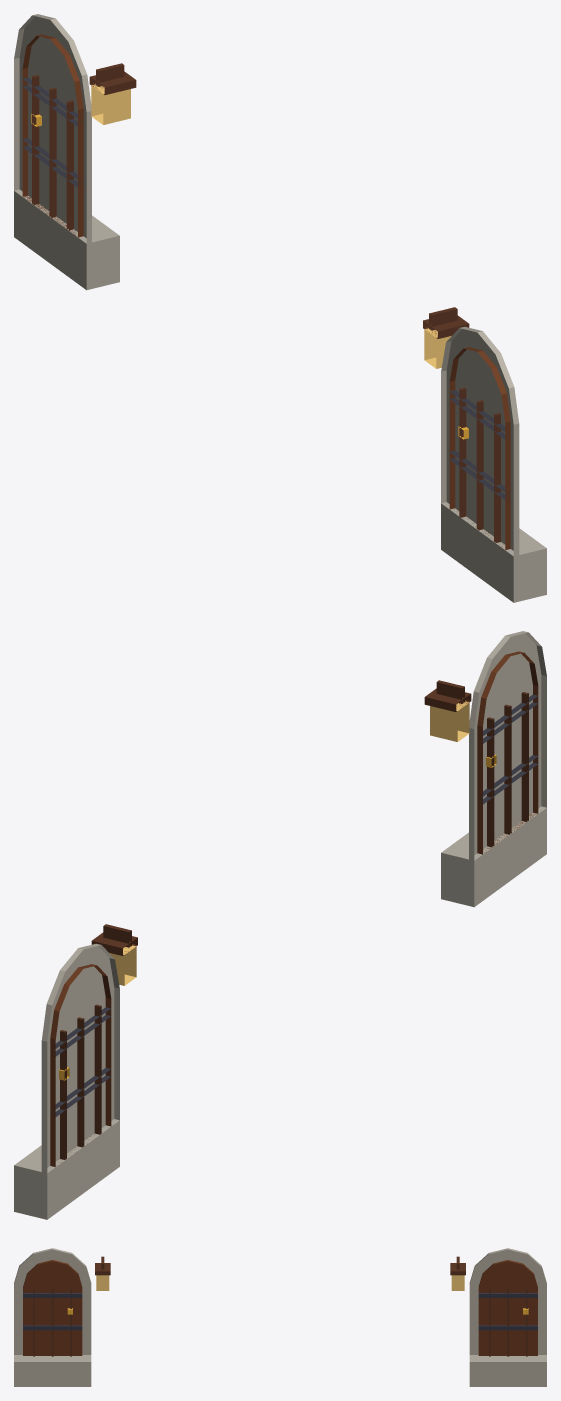
Rendered from FortifiedGate1-TowerDoors.fbx.
3 views of the same model, one above another, from view 1: azimuth 30°, elevation 25°; view 2: azimuth 150°, elevation 25°; view 3: azimuth 270°, elevation 25° (orthographic). The views are drawn at different scales.
Parts seen in each view (by area): view 1: FortifiedGate1-TowerDoors; view 2: FortifiedGate1-TowerDoors; view 3: FortifiedGate1-TowerDoors.
Part boxes in pixels (x1=…): FortifiedGate1-TowerDoors: x1=14, y1=14, x2=546, y2=602; FortifiedGate1-TowerDoors: x1=14, y1=631, x2=546, y2=1219; FortifiedGate1-TowerDoors: x1=14, y1=1248, x2=546, y2=1386.
Size of the model in its own units: 0.09 by 0.63 by 2.34.
